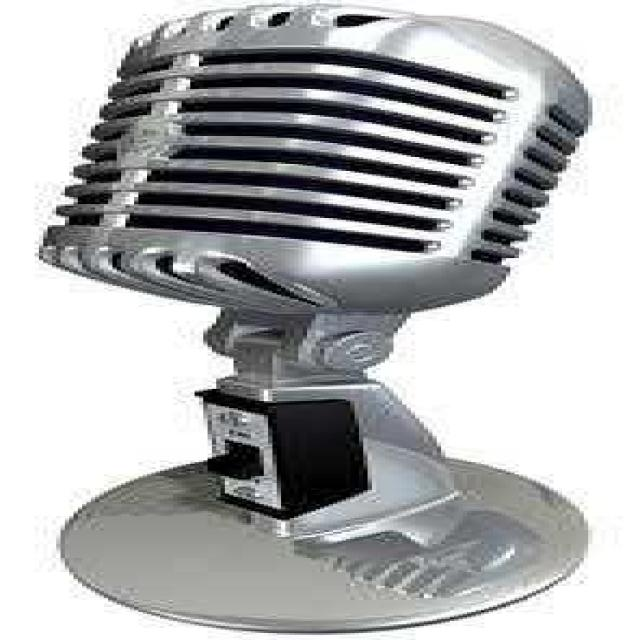microphone: (42, 6, 618, 627)
